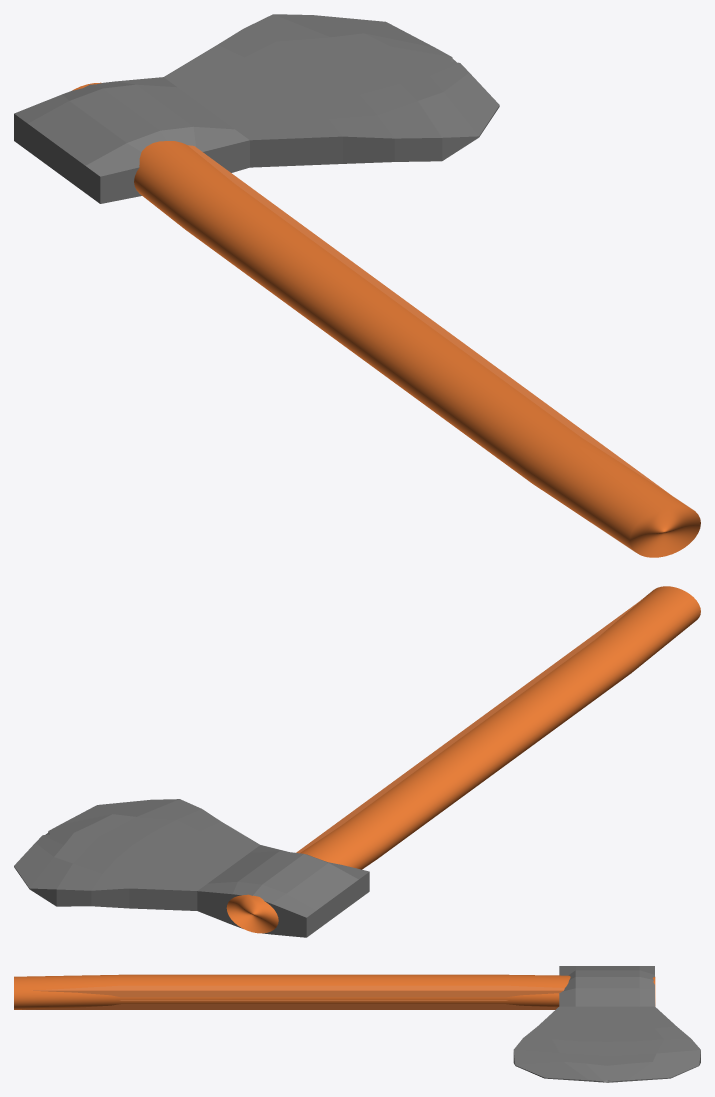
Rendered from SEKIRA (1) (1).fbx.
The picture shows the model from 3 angles, top to bottom: view 1: azimuth 30°, elevation 25°; view 2: azimuth 150°, elevation 25°; view 3: azimuth 270°, elevation 25°; orthographic projection. The views are drawn at different scales.
Parts seen in each view (by area): view 1: Plane, Cylinder; view 2: Plane, Cylinder; view 3: Plane, Cylinder.
Part boxes in pixels (x1,y1,x2,y2): Plane: (14,14,674,497); Cylinder: (72,82,700,557); Plane: (14,597,644,937); Cylinder: (226,586,700,933); Plane: (22,966,700,1082); Cylinder: (14,974,655,1009).
Size of the model in its own units: 536 by 78.23 by 1435.
